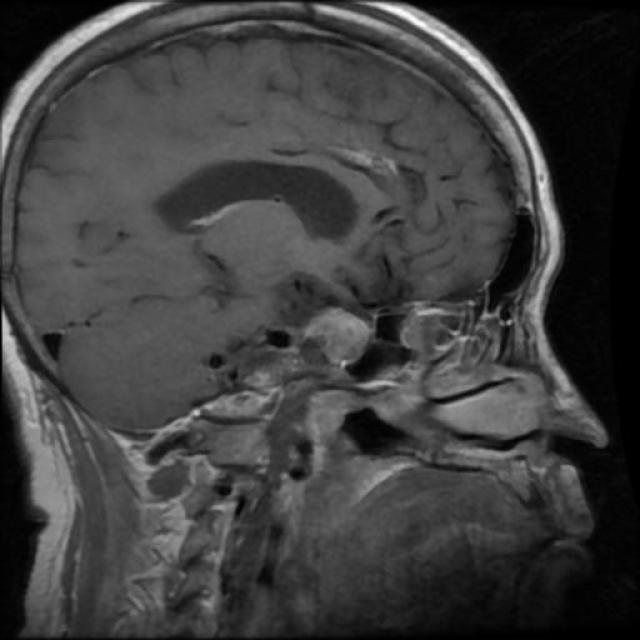pituitary: (300, 293, 376, 368)
